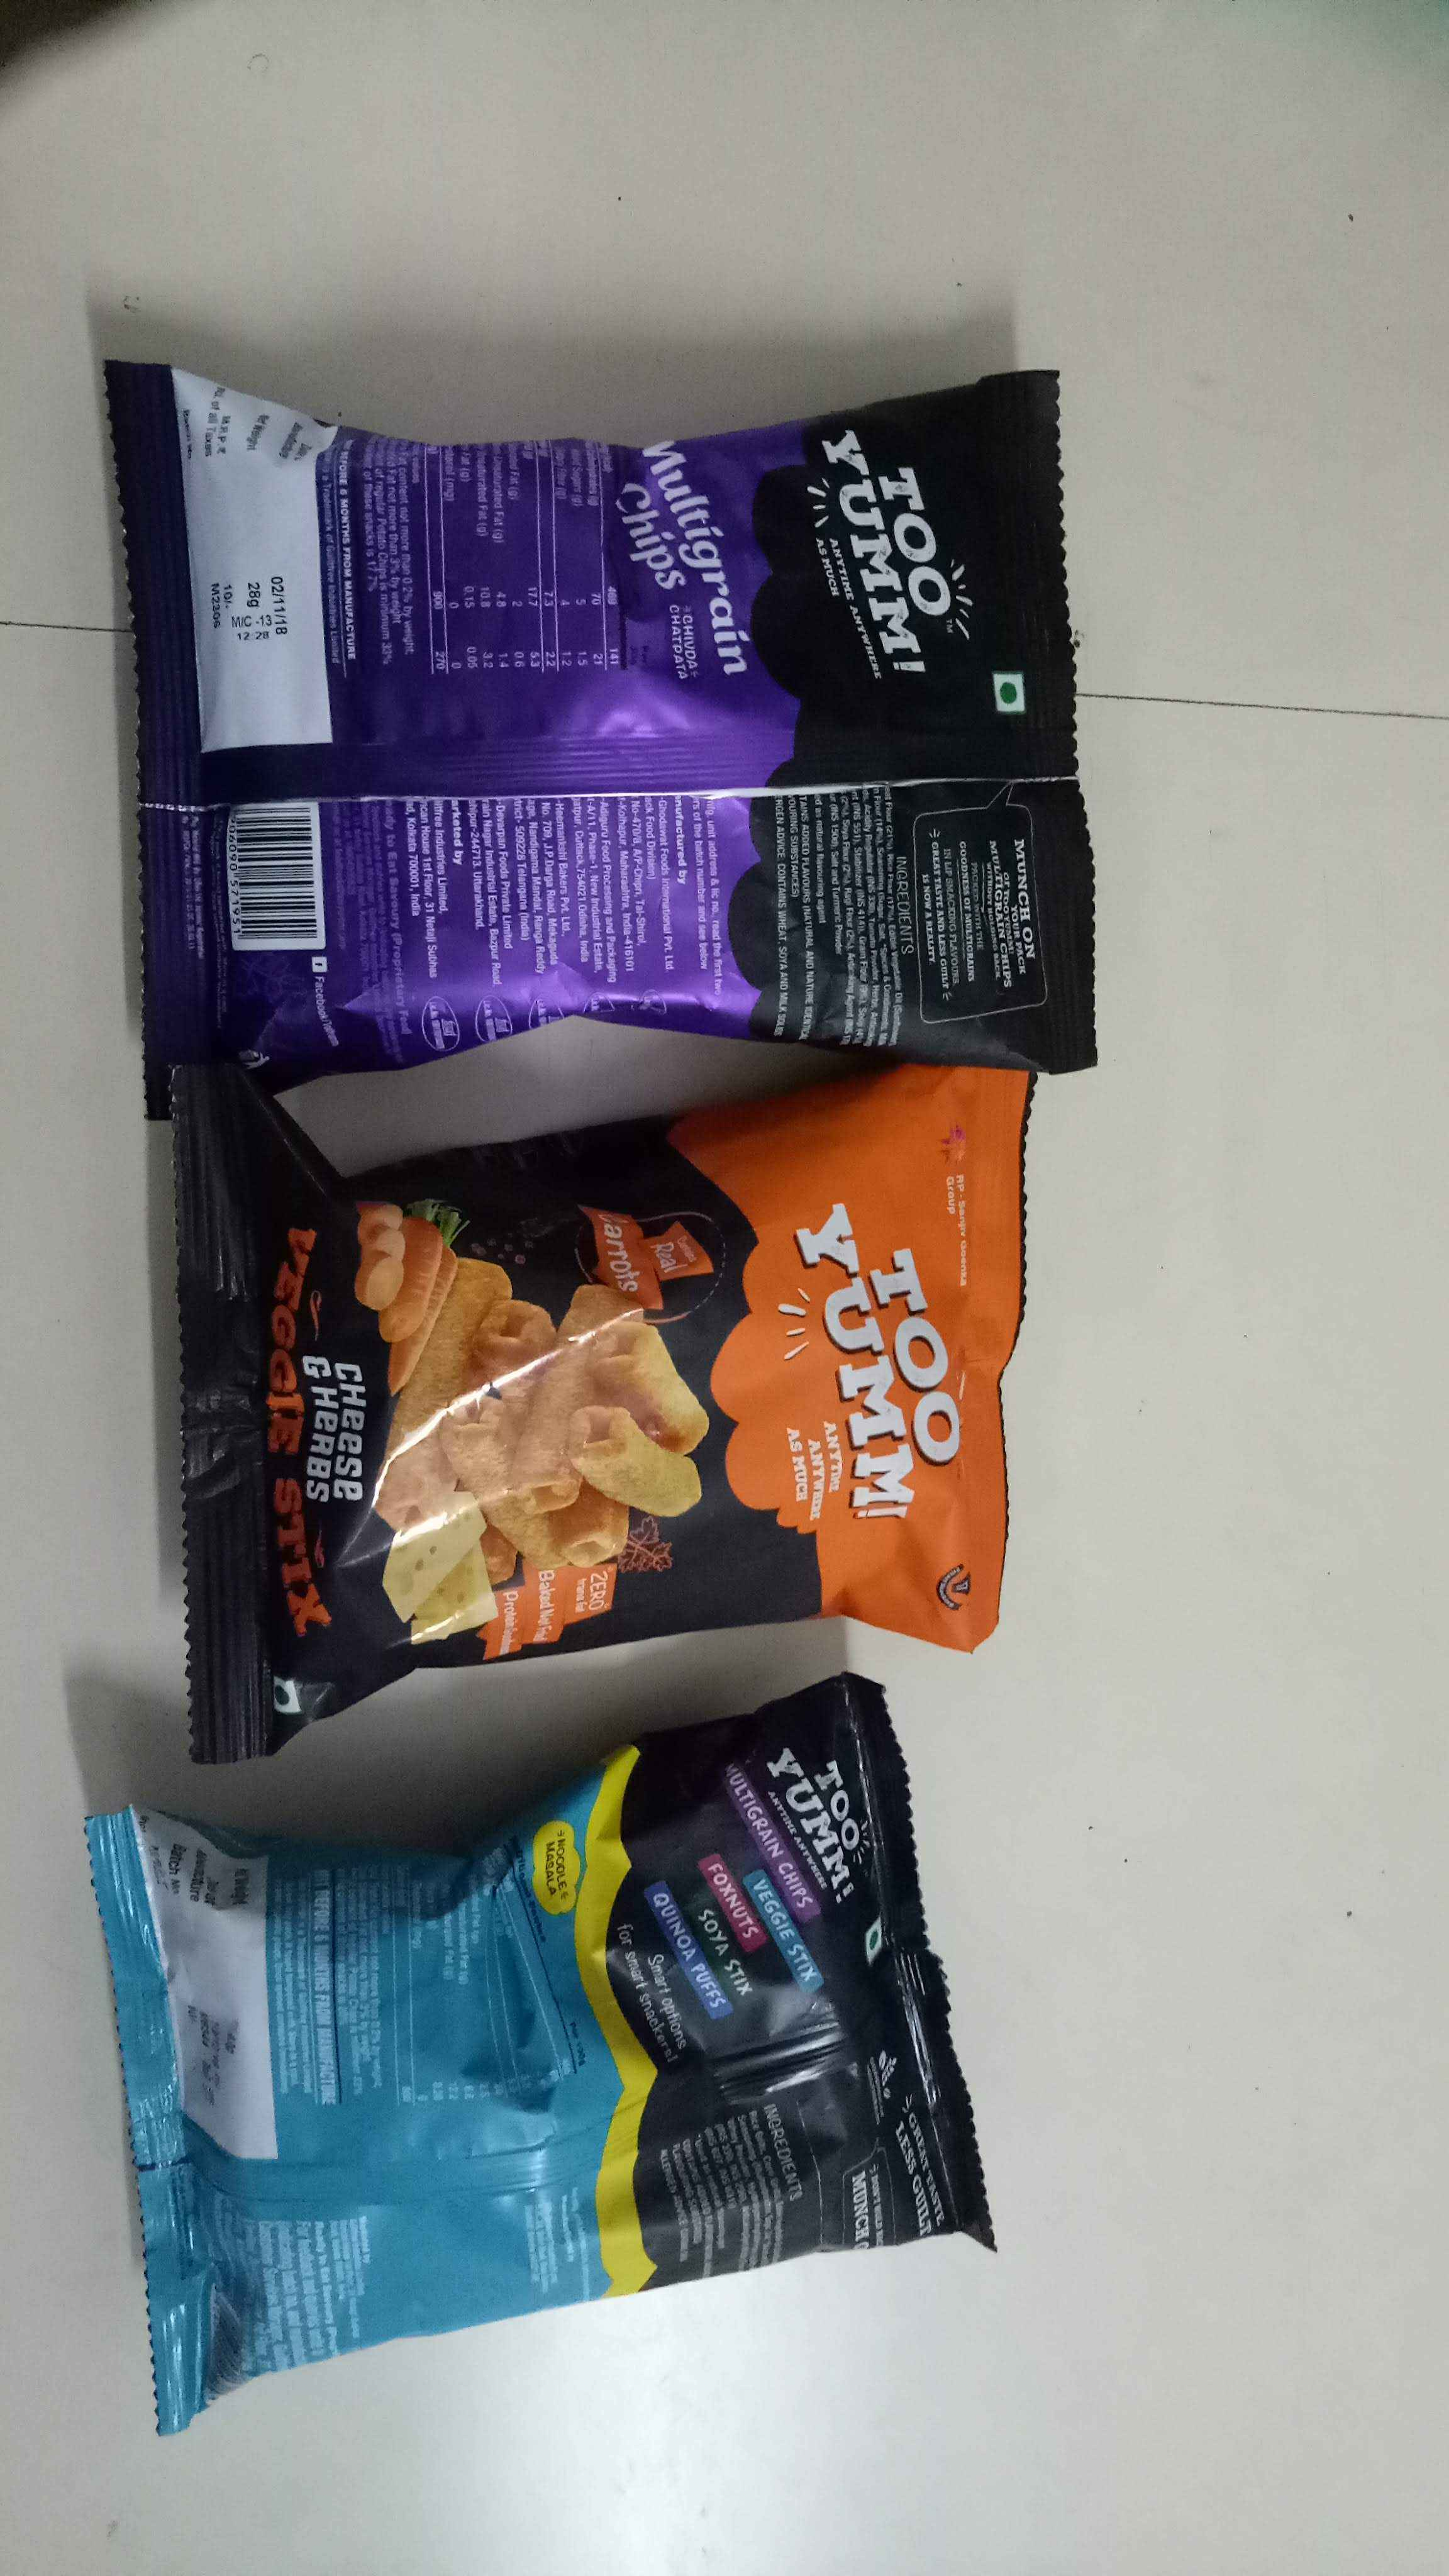tooyumm: (794, 1171, 975, 1564), (794, 421, 955, 701), (752, 1711, 916, 1946)
